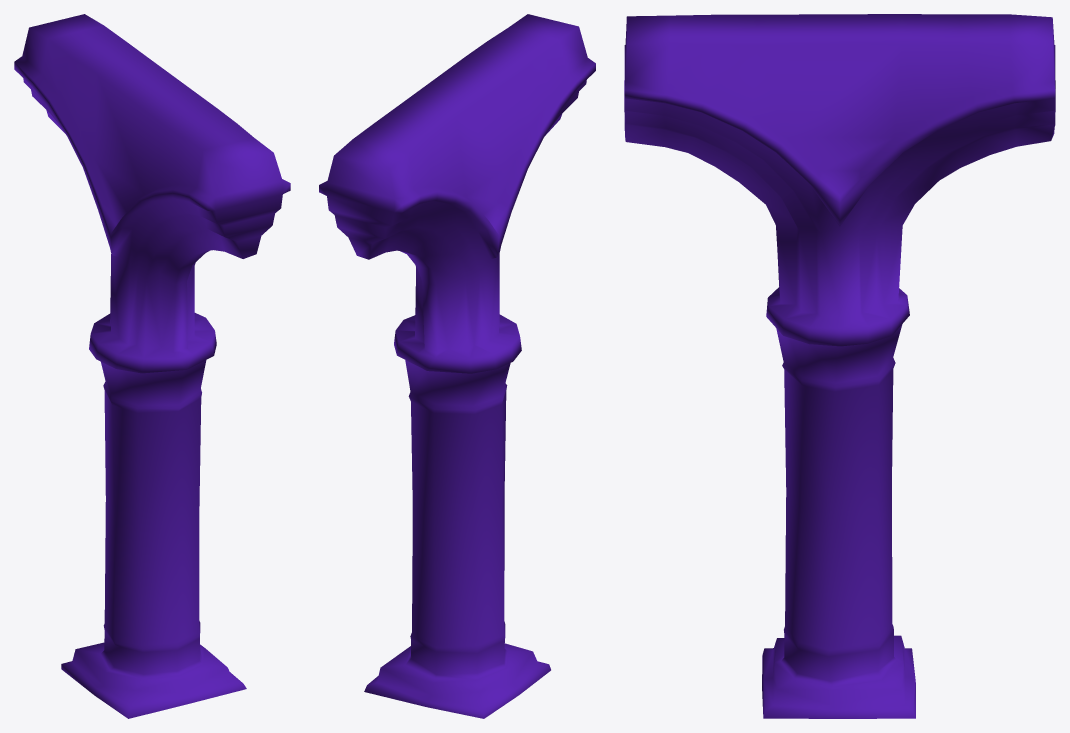
The model's file is arch_02.FBX.
3 views of the same model, side by side, from view 1: azimuth 30°, elevation 25°; view 2: azimuth 150°, elevation 25°; view 3: azimuth 270°, elevation 25° (orthographic). The views are drawn at different scales.
Parts seen in each view (by area): view 1: arch_02; view 2: arch_02; view 3: arch_02.
Boxes of the visible parts, x1,y1,x2,y2 form: arch_02: (14, 14, 290, 718); arch_02: (319, 14, 595, 718); arch_02: (624, 14, 1055, 718).
Bounding box in the file's own units: 16.79 × 79.27 × 47.07.
